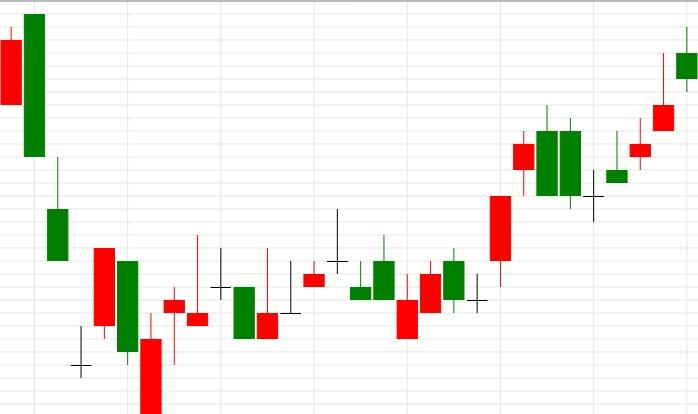bearish_engulfing_fall: (467, 105, 558, 313)
shooting_star_fall: (583, 54, 675, 222)
